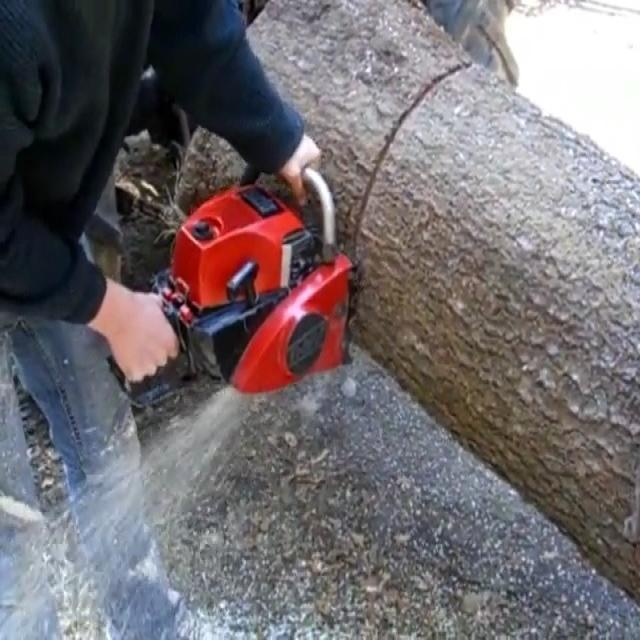Chainsaw: (82, 149, 380, 412)
